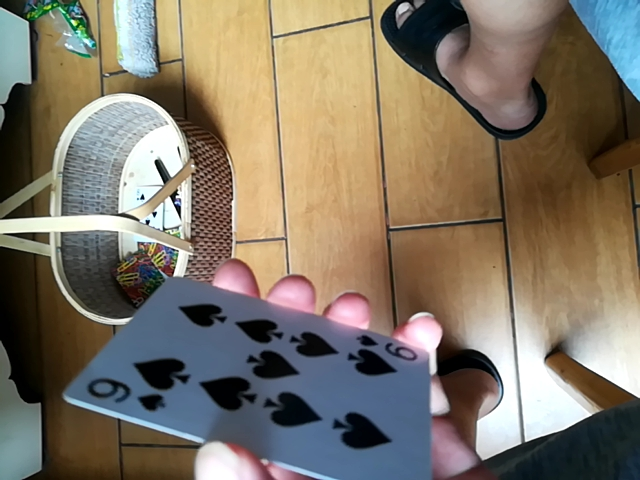ht 9: (69, 270, 452, 471)
